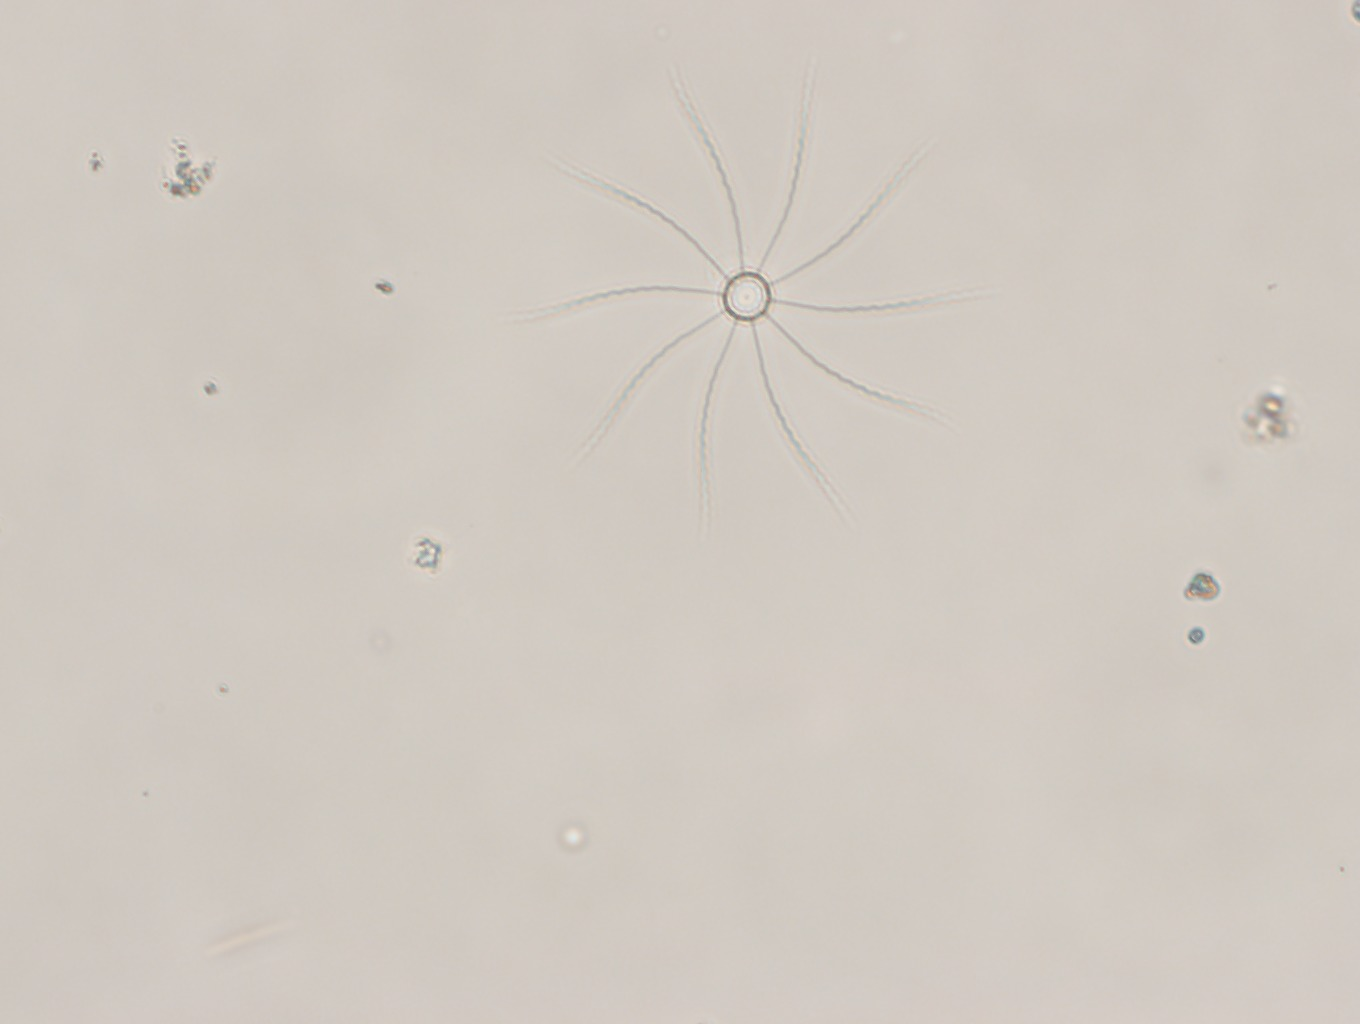bacteriastrum: (510, 56, 992, 530)
